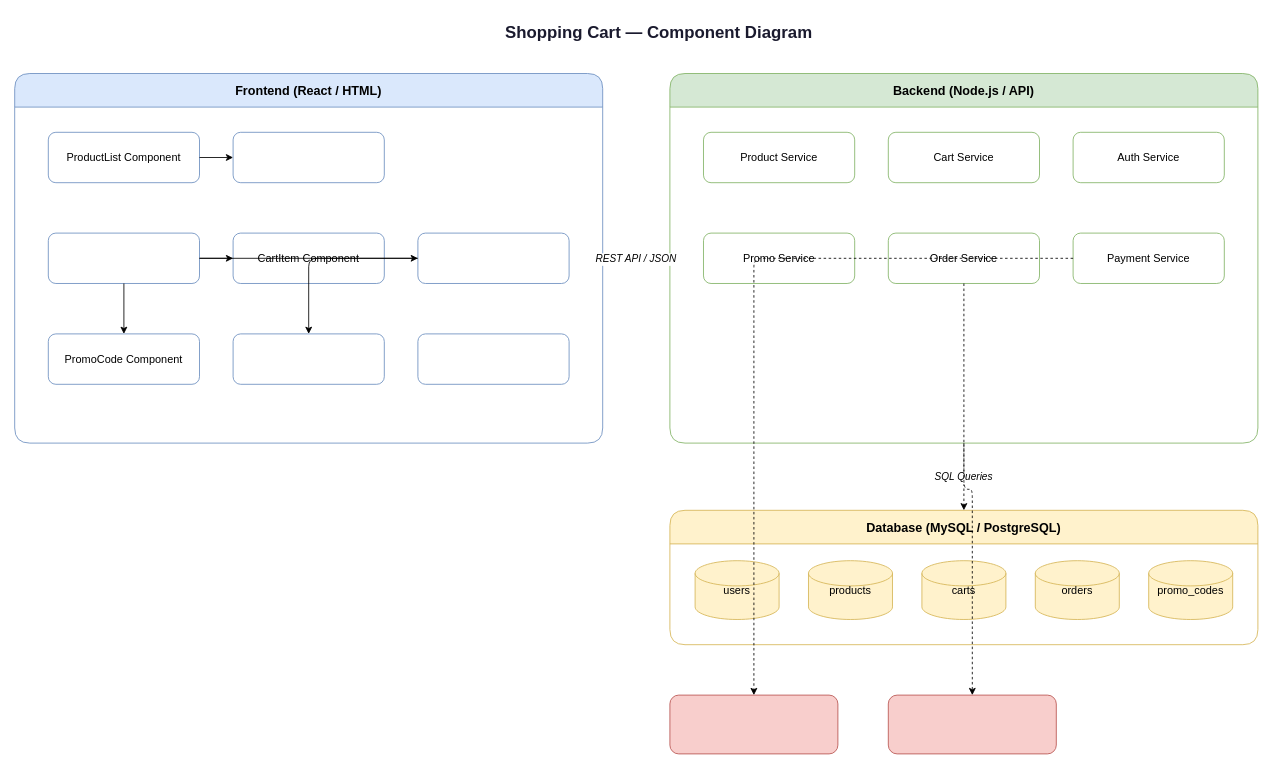
Image size: 1273x769. Some labels were removed from this diagram. The shapes that lost their labels are listed below. From the top down, each one's centre as x and y in pixels, then its label:
At [308,157]: "ProductCard Component".
At [123,258]: "ShoppingCart Component".
At [493,258]: "OrderSummary Component".
At [308,358]: "Checkout Component".
At [493,358]: "Auth Component".
At [753,724]: "Payment Gateway (Stripe / PayPal)".
At [971,724]: "Email Service (SendGrid)".
